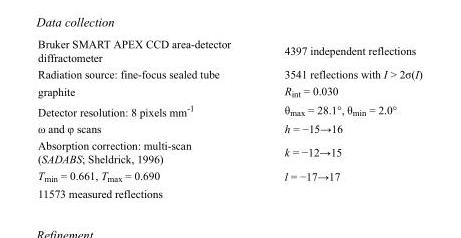table: (37, 37, 421, 199)
table column: (37, 37, 256, 199), (256, 37, 421, 199)
table row: (37, 136, 421, 166), (37, 37, 421, 65), (37, 100, 421, 119), (37, 82, 421, 100), (37, 166, 421, 184), (37, 65, 421, 82), (37, 119, 421, 136), (37, 184, 421, 199)
